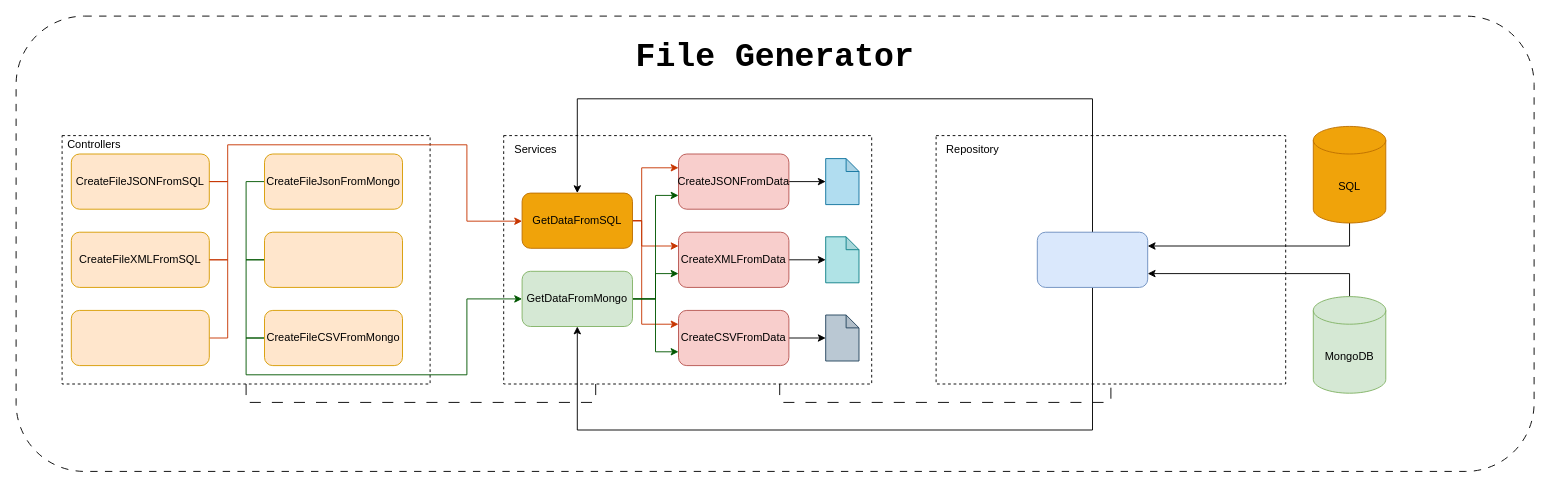
Image size: 1550x488. Some labels were removed from this diagram. The shapes that lost their labels are listed below. From the top down, each one's box as (x1, y1, x2, y2) in pixels, then its label:
(825, 158, 859, 205): JSON
(264, 231, 402, 287): CreateFileXMLFromMongo
(825, 236, 859, 283): XML
(1036, 231, 1148, 287): ReadData
(70, 309, 209, 366): CreateFileCSVFromSQL
(825, 314, 859, 361): CSV
